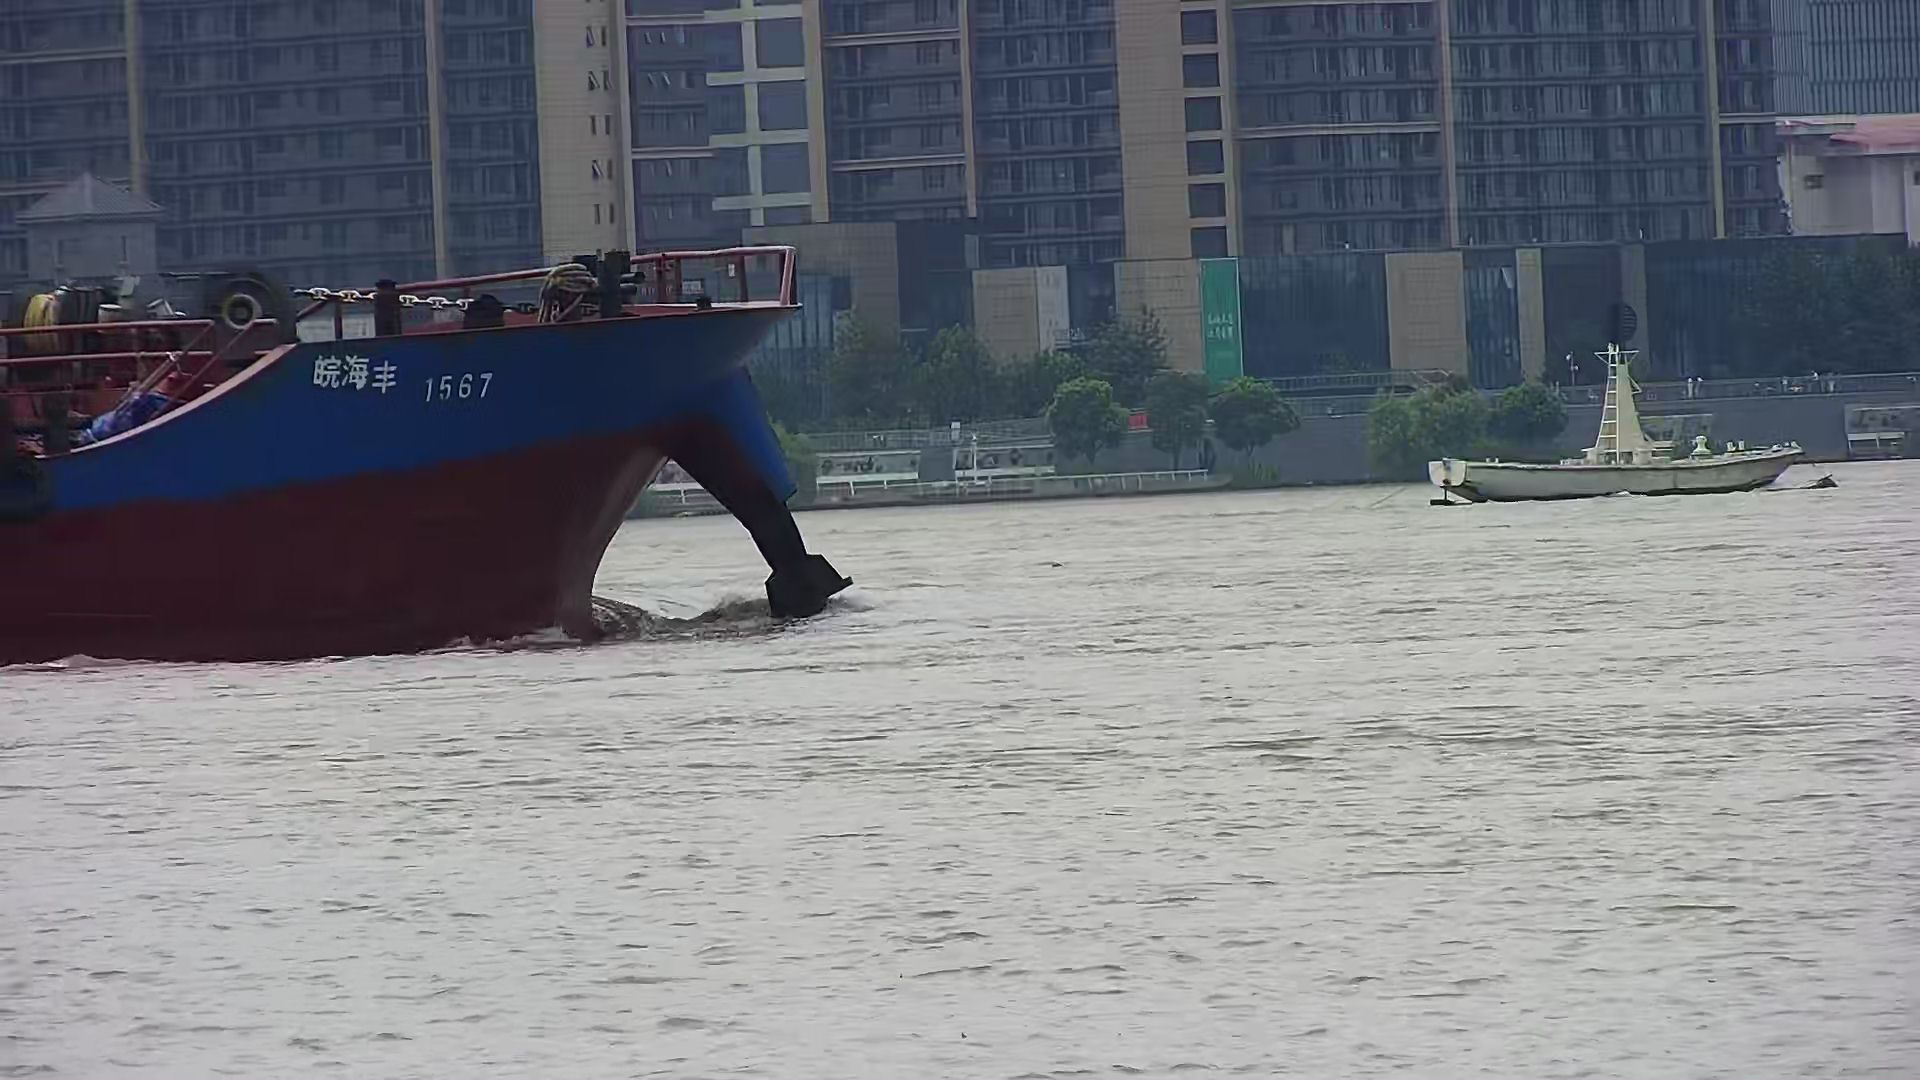boat: (1429, 334, 1803, 502)
ship: (1, 247, 855, 665)
